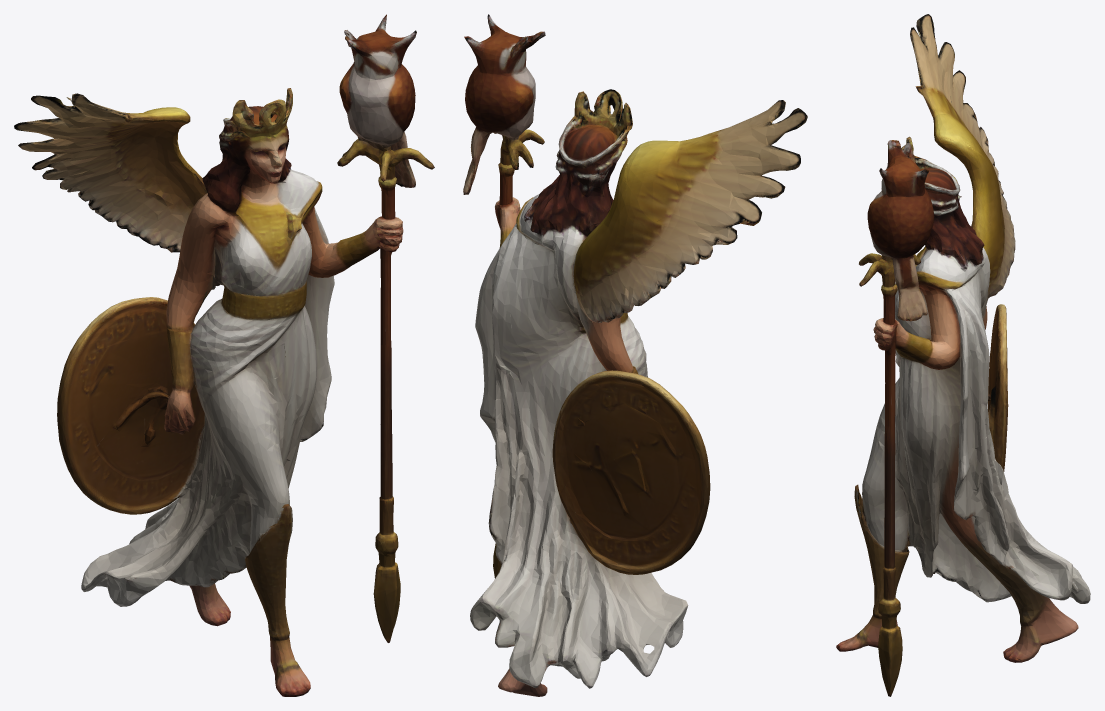
File: model.trellis.glb
3 views of the same model, side by side, from view 1: azimuth 30°, elevation 25°; view 2: azimuth 150°, elevation 25°; view 3: azimuth 270°, elevation 25° (orthographic). The views are drawn at different scales.
Parts seen in each view (by area): view 1: world; view 2: world; view 3: world.
Part boxes in pixels (left/top/right/bottom): world: left=14, top=14, right=434, bottom=696; world: left=463, top=14, right=807, bottom=696; world: left=836, top=14, right=1090, bottom=696.
Size of the model in its own units: 0.6307 by 1 by 0.4223.
1 material, 1 textured.
